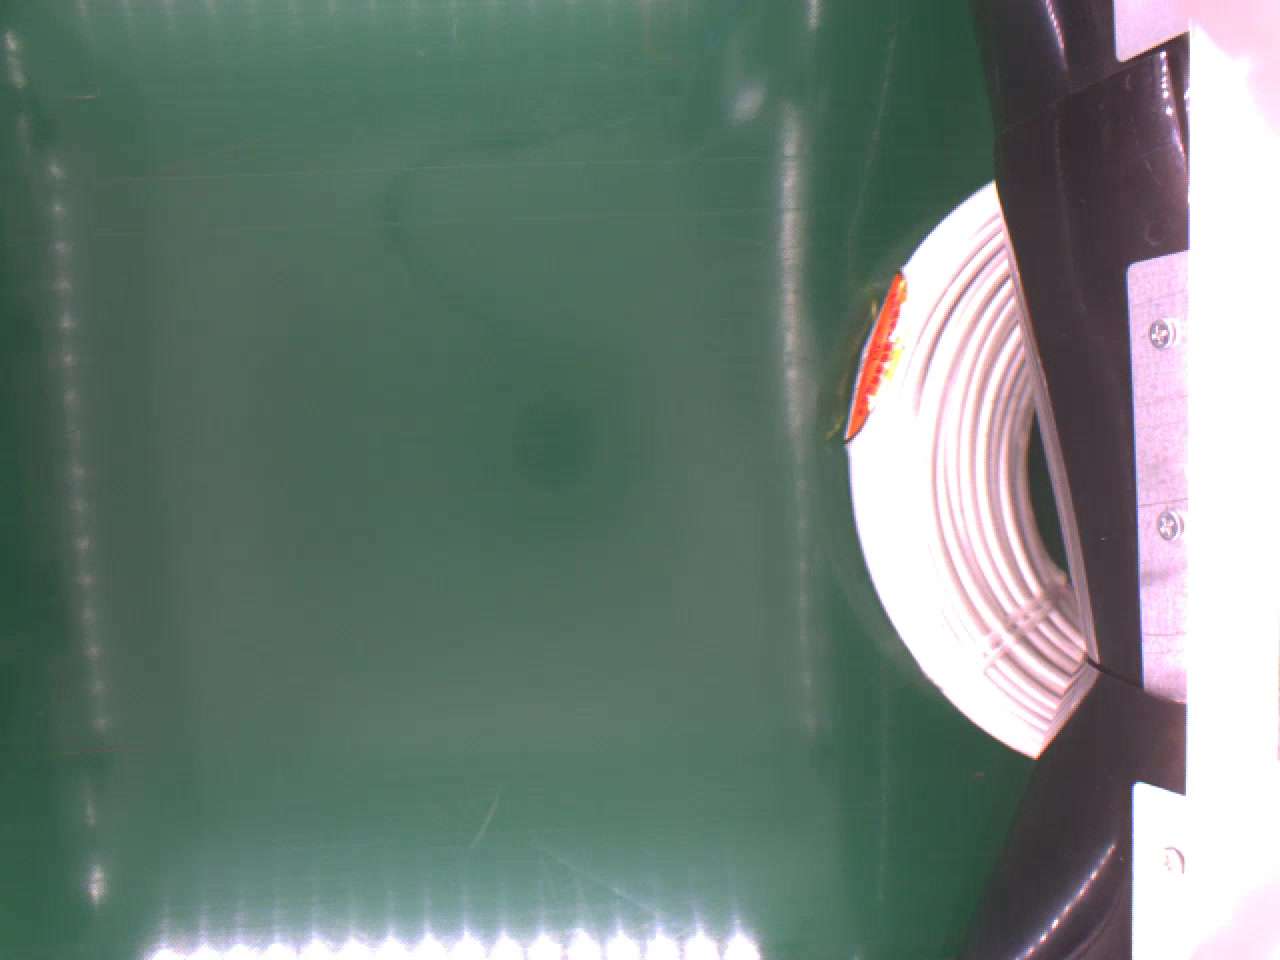white: (843, 176, 1092, 763)
